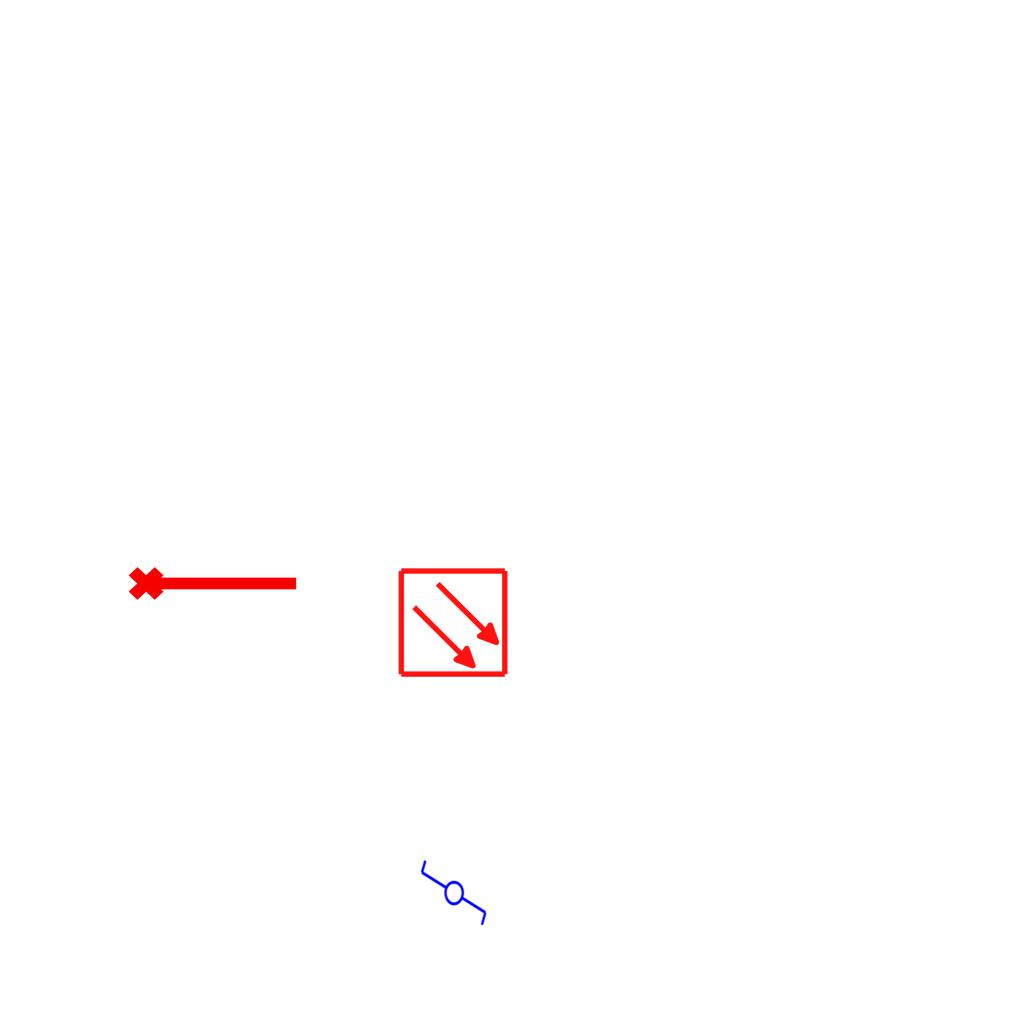ASR_Ansaugoeffnung: (126, 558, 302, 604)
RMO_Rauchmelder_optischer: (397, 566, 510, 679)
Wechselschalter: (417, 858, 489, 936)
